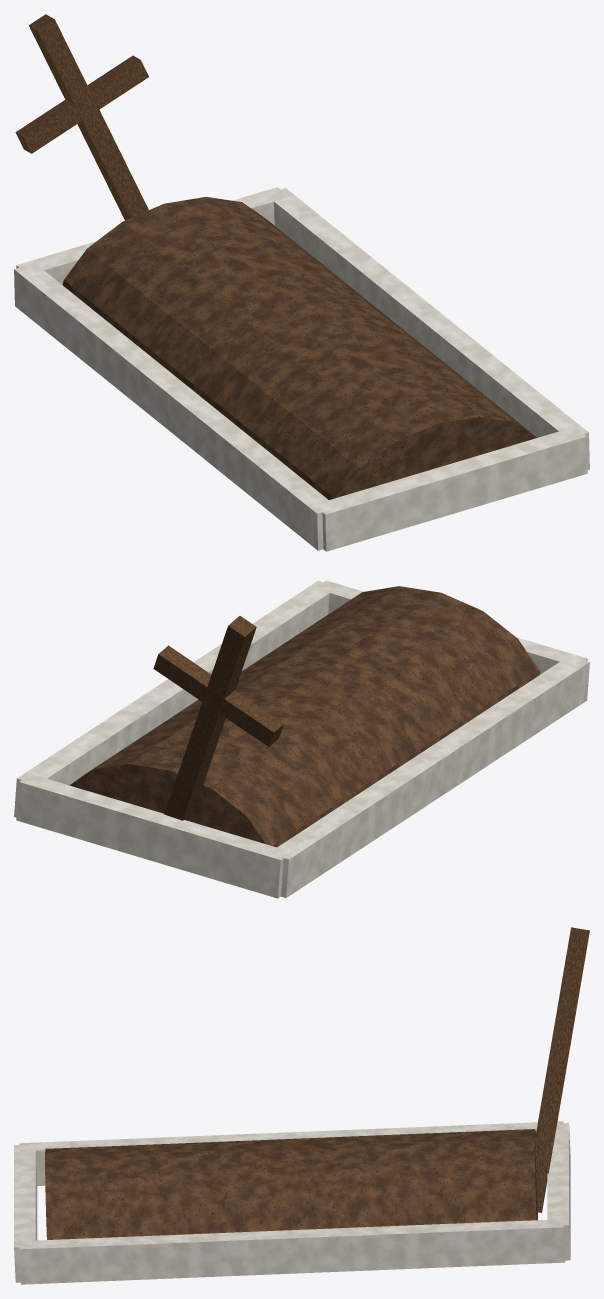
Rendered from tumba_tierra_vieja.obj.
The picture shows the model from 3 angles, top to bottom: view 1: azimuth 30°, elevation 25°; view 2: azimuth 150°, elevation 25°; view 3: azimuth 270°, elevation 25°; orthographic projection. The views are drawn at different scales.
Parts seen in each view (by area): view 1: Monticulo, Cube.002, Cube.003, Cube, Cube.004, Cube.005, Cube.001; view 2: Monticulo, Cube.002, Cube.001, Cube.003, Cube.004, Cube.005, Cube; view 3: Monticulo, Cube.003, Cube.004, Cube.002, Cube, Cube.001.
Part boxes in pixels (x1,y1,x2,y2): Monticulo: [62, 196, 537, 499]; Cube.002: [14, 263, 337, 550]; Cube.003: [274, 188, 589, 469]; Cube: [322, 427, 587, 551]; Cube.004: [29, 14, 148, 220]; Cube.005: [15, 55, 148, 153]; Cube.001: [16, 187, 289, 284]; Monticulo: [69, 586, 540, 847]; Cube.002: [268, 656, 589, 897]; Cube.001: [16, 774, 283, 898]; Cube.003: [14, 581, 329, 817]; Cube.004: [164, 616, 256, 820]; Cube.005: [153, 645, 283, 746]; Cube: [314, 580, 587, 674]; Monticulo: [45, 1129, 537, 1239]; Cube.003: [19, 1220, 565, 1284]; Cube.004: [535, 927, 589, 1212]; Cube.002: [19, 1121, 563, 1185]; Cube: [14, 1145, 37, 1282]; Cube.001: [547, 1123, 570, 1260].
Size of the model in its own units: 1.05 by 1.09 by 2.12.
3 materials, 3 textured.
